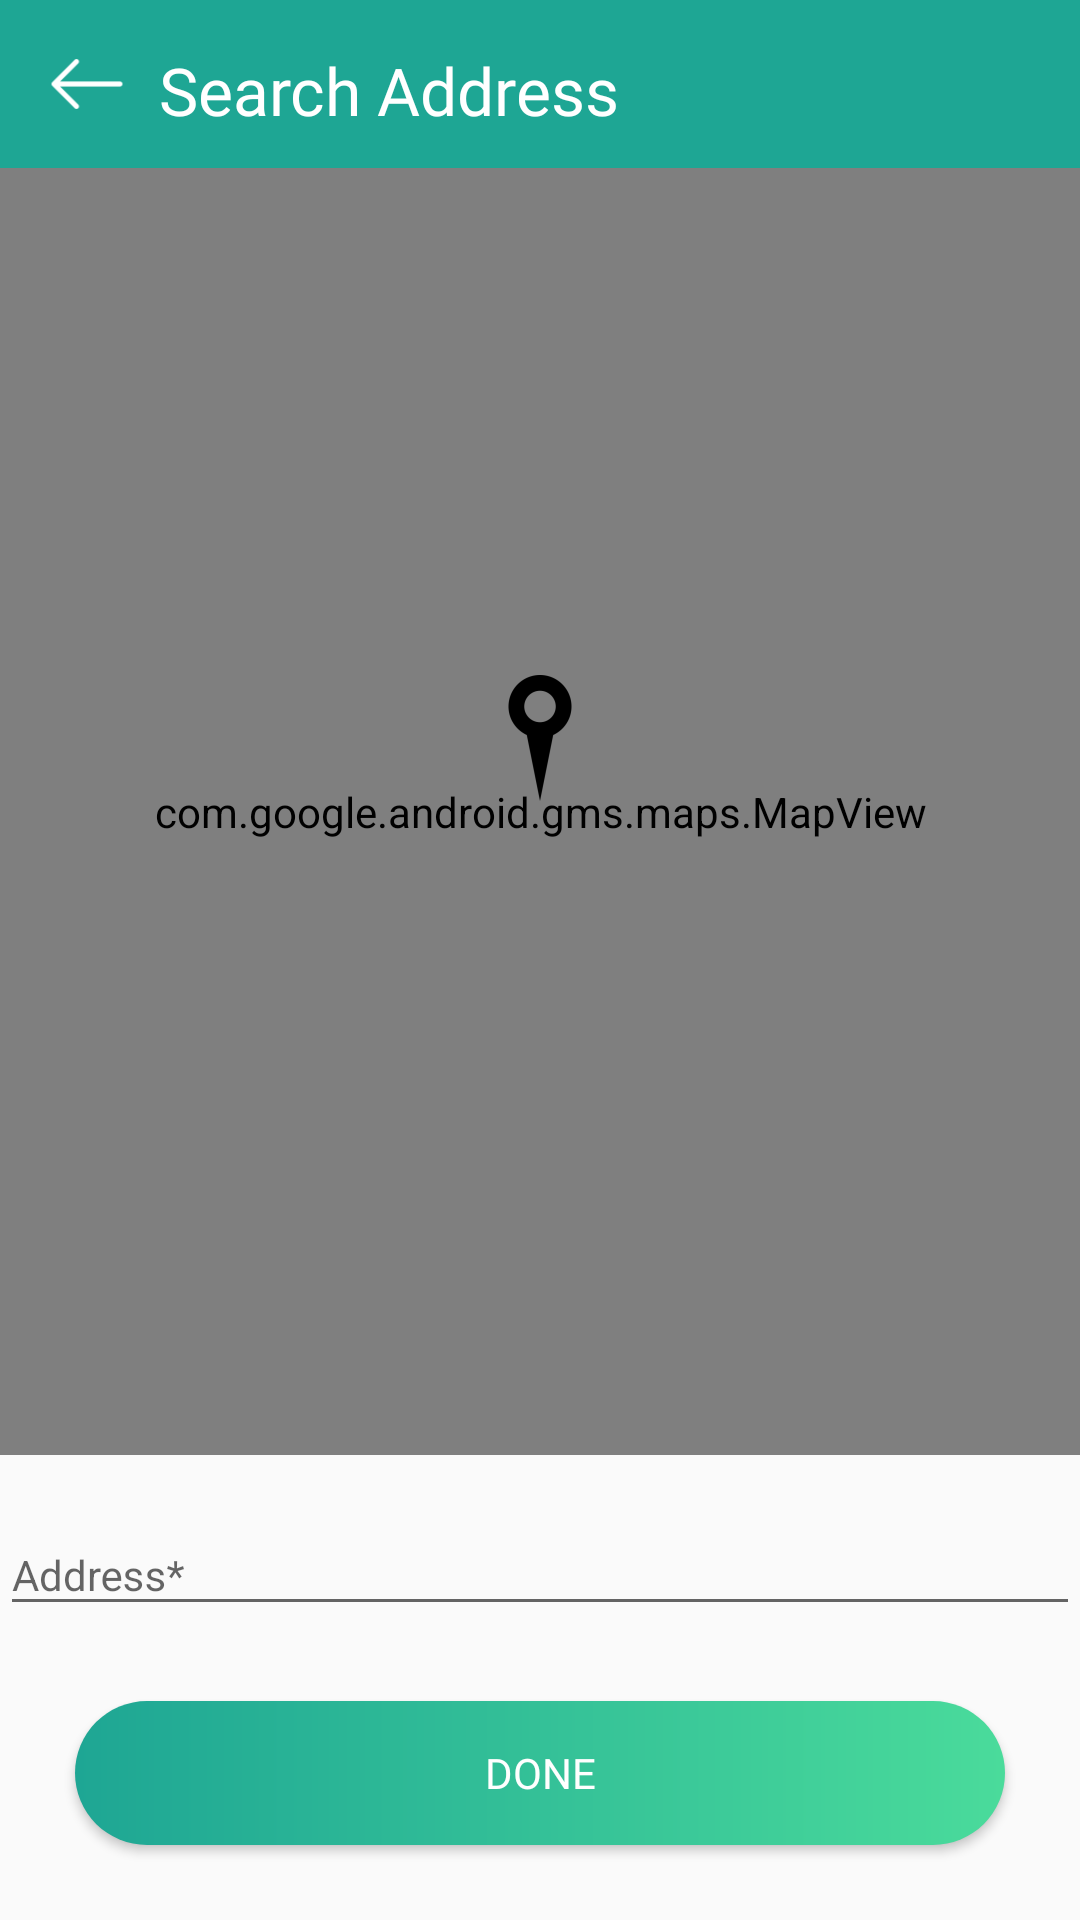

Icons on this 1080px x 1920px Android screen, each with the point to tap as point (x, y):
back: point (87, 84)
location: point (535, 738)
